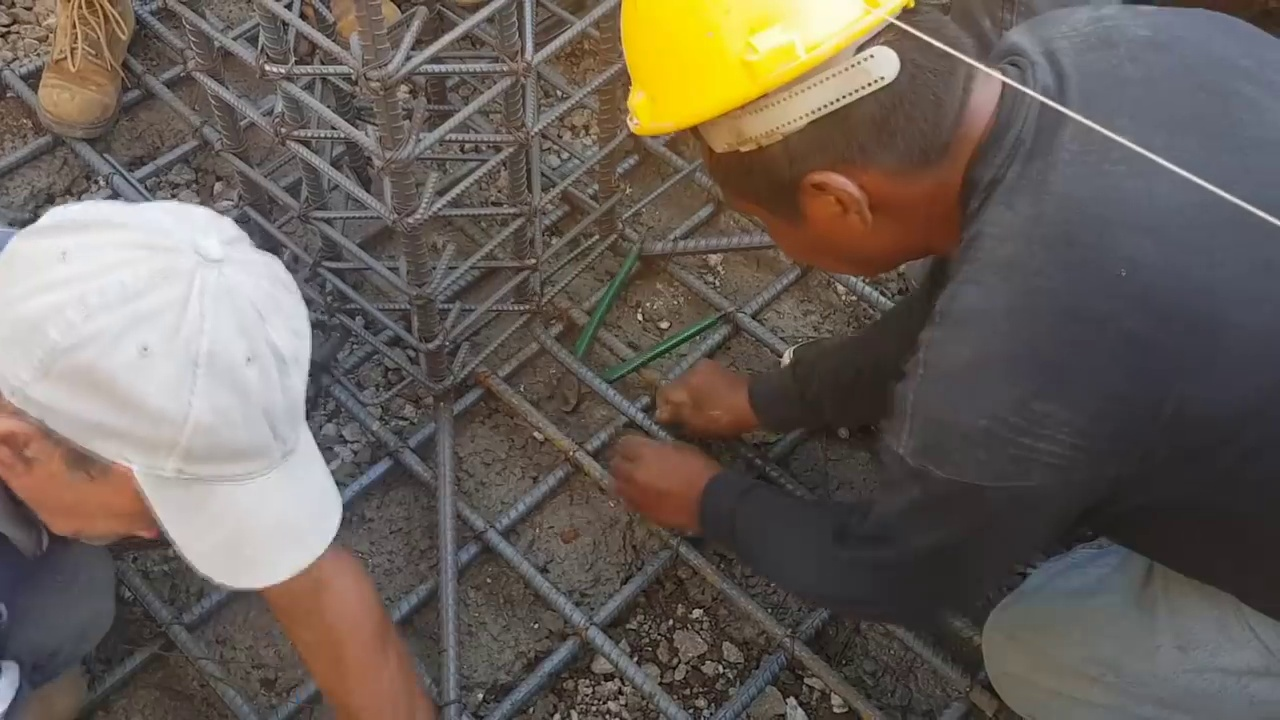helmet: (613, 0, 910, 155)
helmet-off: (2, 205, 329, 610)
helmet-on: (613, 0, 1029, 279)
person: (610, 1, 1280, 718), (0, 195, 436, 716)
